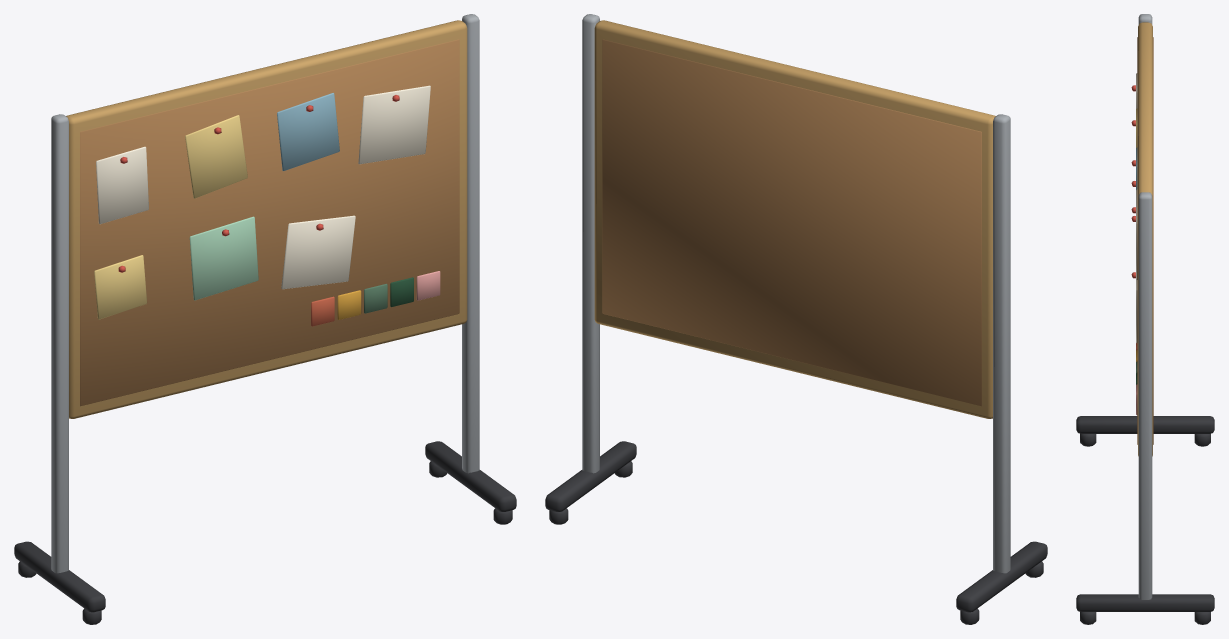
The model's file is mood_board.glb.
The picture shows the model from 3 angles, left to right: view 1: azimuth 30°, elevation 25°; view 2: azimuth 150°, elevation 25°; view 3: azimuth 270°, elevation 25°; orthographic projection. The views are drawn at different scales.
Visible parts, largest first — view 1: mood_board; view 2: mood_board; view 3: mood_board.
Boxes of the visible parts, x1=… form: mood_board: x1=14, y1=14, x2=516, y2=624; mood_board: x1=545, y1=14, x2=1047, y2=624; mood_board: x1=1076, y1=14, x2=1214, y2=624.
Bounding box in the file's own units: 1.46 × 1.57 × 0.46.
Materials: 1 (1 with a texture image).
